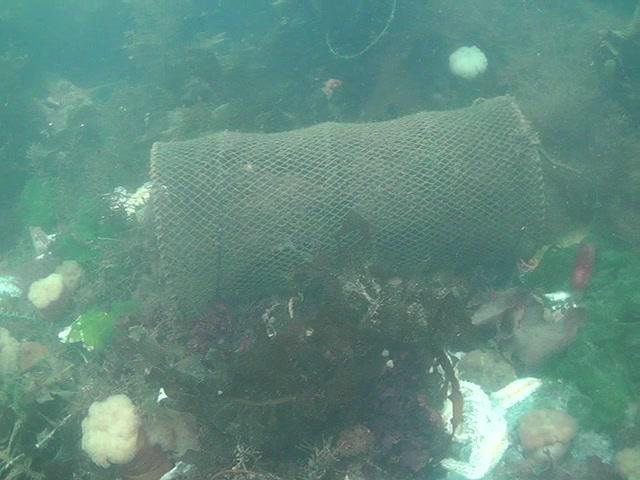spring fish trap: (148, 94, 549, 306)
